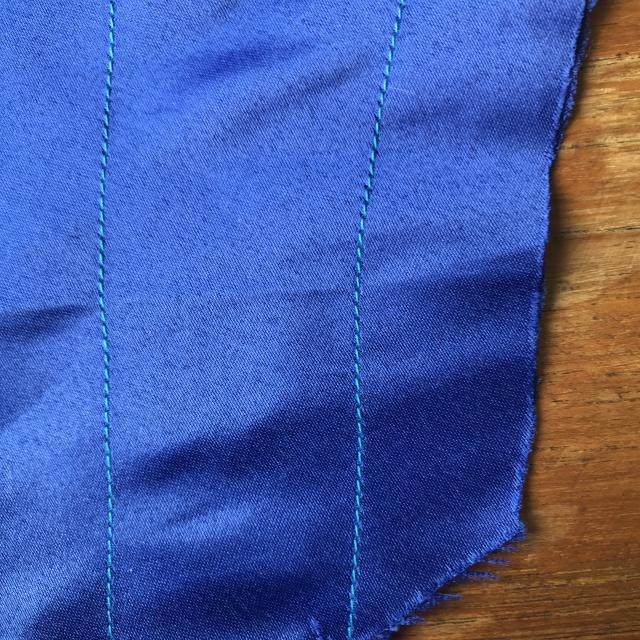good: (71, 164, 126, 320)
